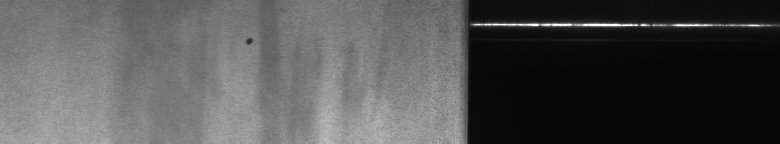fi: (240, 32, 259, 56)
